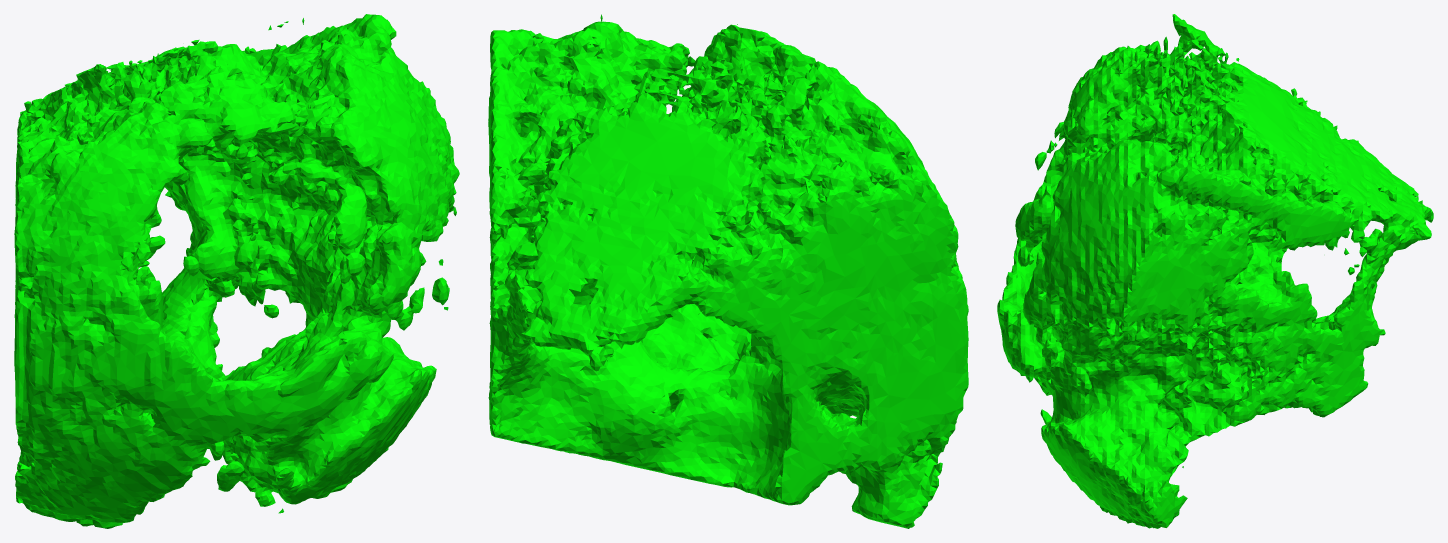
File: B939XXXX-1_base_21.obj
3 renders of one model, left to right at view 1: azimuth 30°, elevation 25°; view 2: azimuth 150°, elevation 25°; view 3: azimuth 270°, elevation 25°, orthographic. The views are drawn at different scales.
Visible parts, largest first — view 1: 21_base; view 2: 21_base; view 3: 21_base.
Boxes of the visible parts, x1,y1,x2,y2 form: 21_base: [14, 14, 459, 528]; 21_base: [488, 14, 968, 528]; 21_base: [997, 14, 1433, 528].
Bounding box in the file's own units: 219 × 214 × 204.
